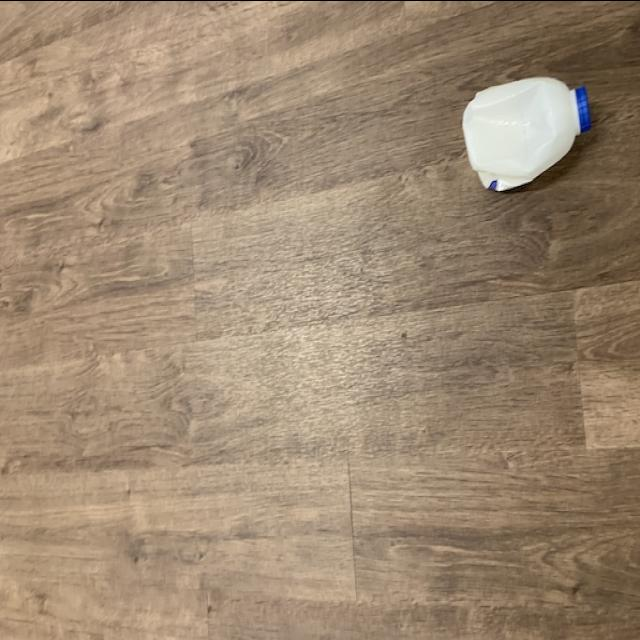HDPEM: (460, 72, 590, 196)
